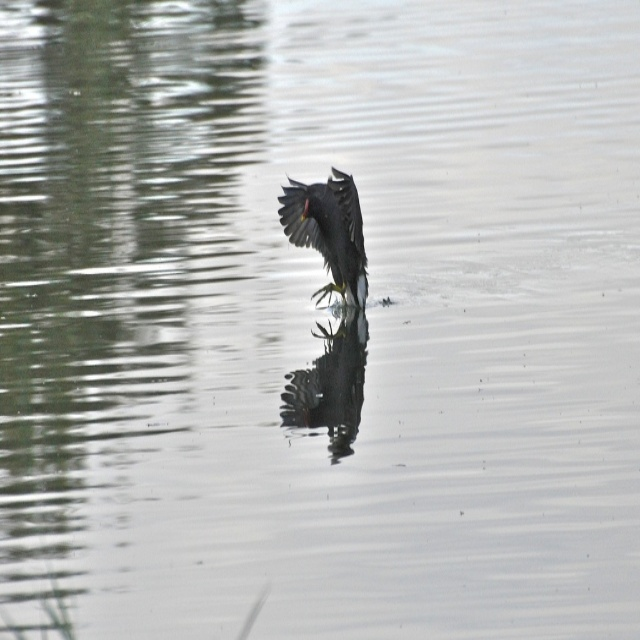Eagle: (277, 168, 370, 322)
